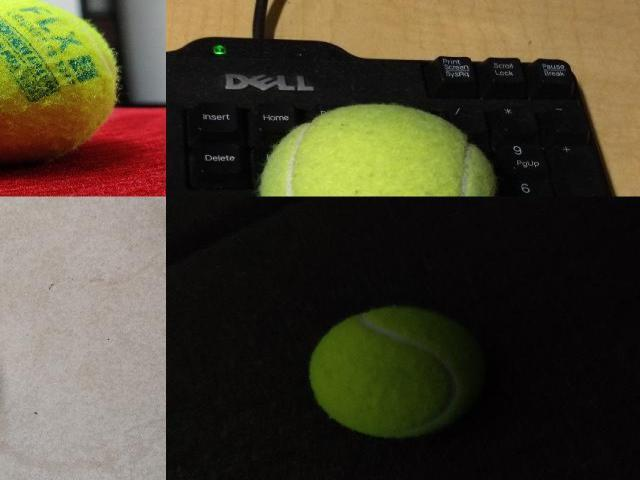tennis-ball: (308, 306, 486, 436), (257, 104, 499, 196), (0, 0, 124, 168)
